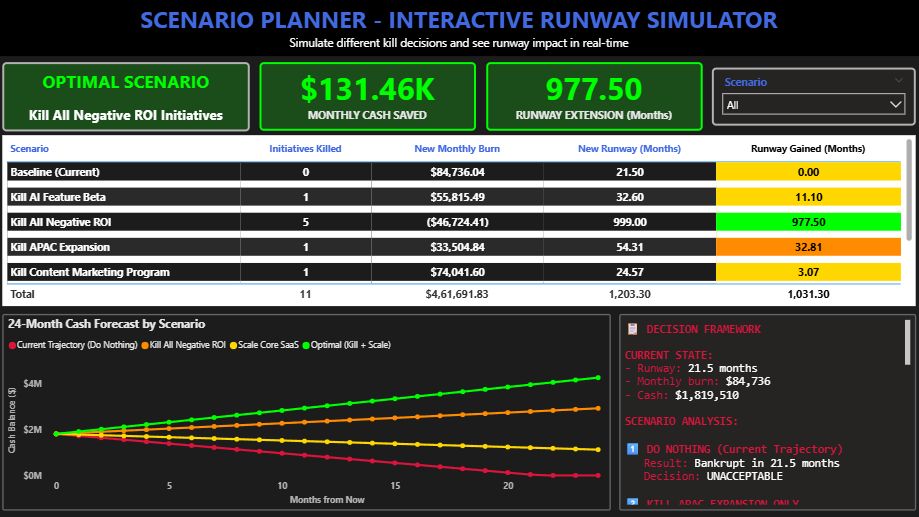

This screenshot's page, from the dashboard's own definition file:
{"tool":"powerbi","page":{"name":"Scenario Planner","canvas":[1280,720],"ordinal":2},"visuals":[{"type":"textbox","box":[0,0,1278.6,77.6],"z":0},{"type":"textbox","box":[861.7,436.3,412.9,273.7],"z":1000},{"type":"tableEx","fields":{"Values":["powerbi_kill_scenarios.scenario","Sum(powerbi_kill_scenarios.initiatives_killed)","Sum(powerbi_kill_scenarios.new_net_burn)","Sum(powerbi_kill_scenarios.new_runway)","Sum(powerbi_kill_scenarios.runway_extension)"]},"box":[4.7,187.7,1269.9,237.7],"z":2000},{"type":"lineChart","title":"24-Month Cash Forecast by Scenario","fields":{"Category":["powerbi_runway_projection.months_from_now"],"Y":["Sum(powerbi_runway_projection.cash_baseline)","Sum(powerbi_runway_projection.cash_kill_negative)","Sum(powerbi_runway_projection.cash_scale_core)","Sum(powerbi_runway_projection.cash_optimal)"]},"box":[4.7,436.3,846.1,273.7],"z":2001},{"type":"textbox","box":[4.7,86,344.1,96],"z":2002},{"type":"card","fields":{"Values":["_Measures.Monthly Savings"]},"box":[362.8,85.9,300.7,95.5],"z":2003},{"type":"card","fields":{"Values":["_Measures.Potential Runway Extension"]},"box":[677.8,85.9,300.7,95.5],"z":2004},{"type":"slicer","fields":{"Values":["powerbi_kill_scenarios.scenario"]},"box":[991.2,93.9,283.2,81.1],"z":2005}]}

Visuals, with their boxes in screenshot pixels (x1, y1, x2, y2), scaled from the page's 1280x720 canvas onto the 919x517 screenshot:
textbox: rect(0, 0, 918, 56)
textbox: rect(619, 313, 915, 510)
tableEx - powerbi_kill_scenarios.scenario x Sum(powerbi_kill_scenarios.initiatives_killed): rect(3, 135, 915, 305)
"24-Month Cash Forecast by Scenario" lineChart: rect(3, 313, 611, 510)
textbox: rect(3, 62, 250, 131)
card - _Measures.Monthly Savings: rect(260, 62, 476, 130)
card - _Measures.Potential Runway Extension: rect(487, 62, 703, 130)
slicer - powerbi_kill_scenarios.scenario: rect(712, 67, 915, 126)
